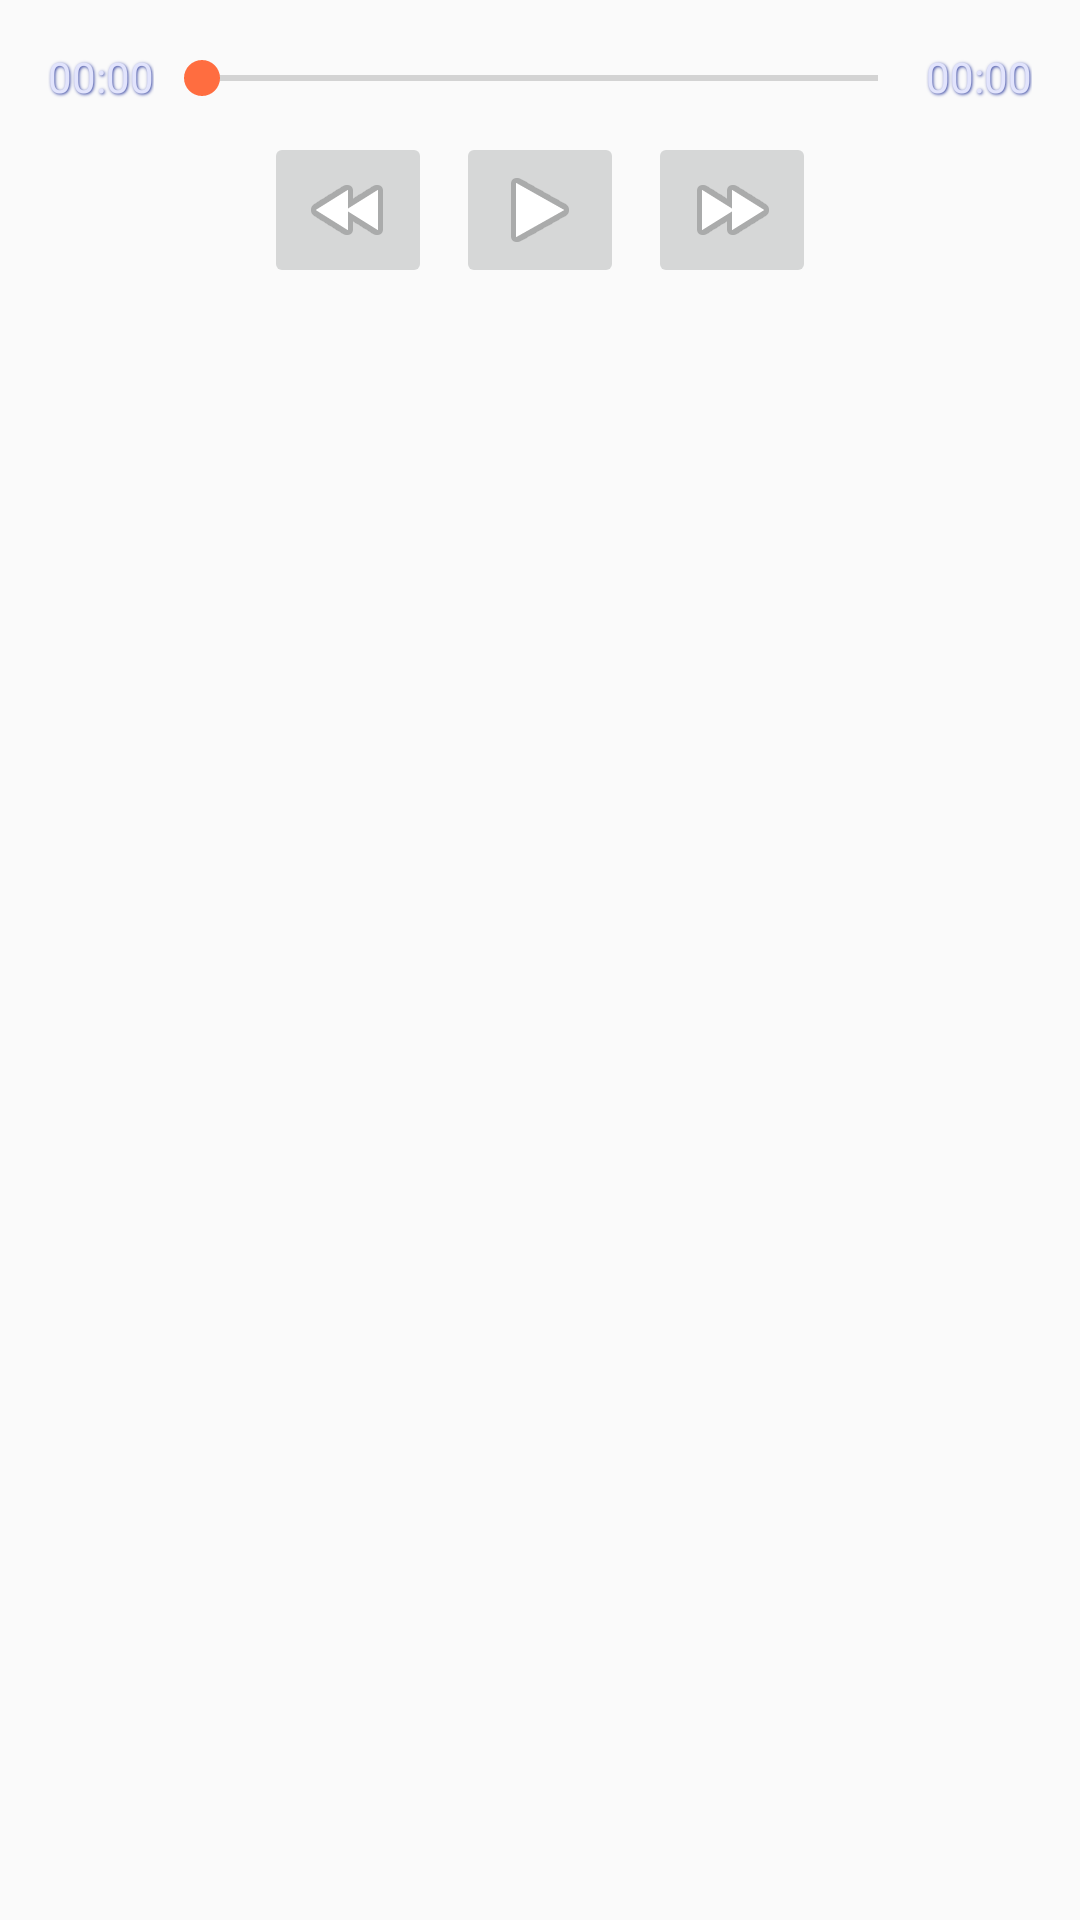

Screen size 1080px×1920px. Icon name, then its center in pixels as point (x, y):
play: point (540, 210)
rew: point (348, 210)
